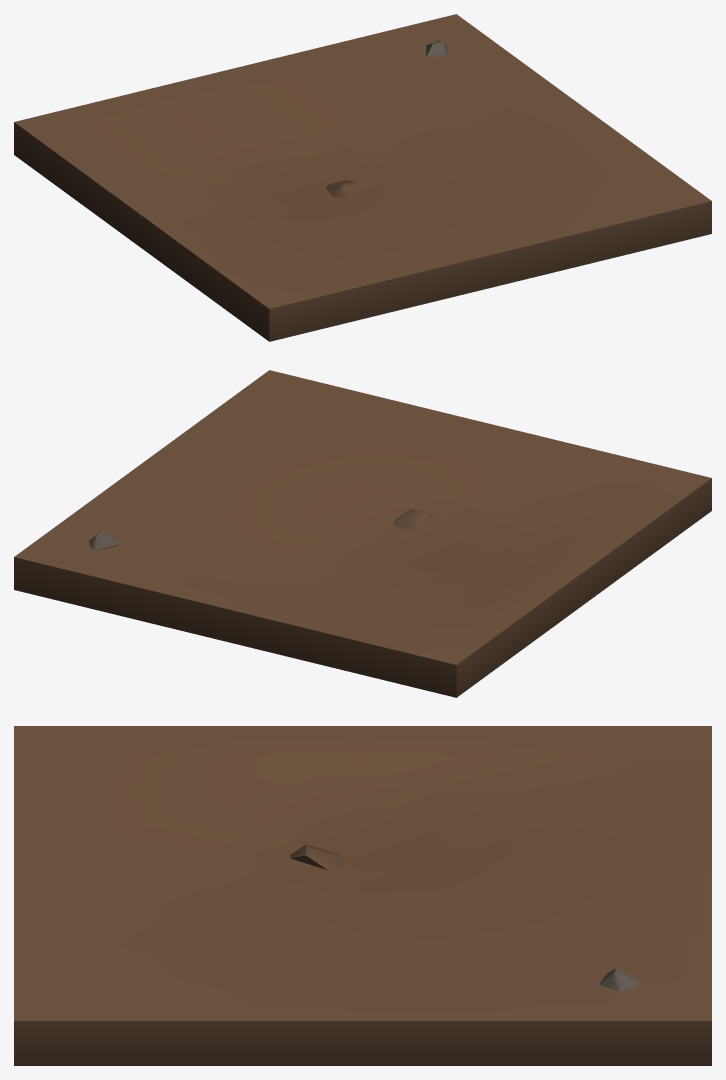
Rendered from floor_earth_small_F.glb.
3 views of the same model, one above another, from view 1: azimuth 30°, elevation 25°; view 2: azimuth 150°, elevation 25°; view 3: azimuth 270°, elevation 25° (orthographic). The views are drawn at different scales.
Visible parts, largest first — view 1: Item; view 2: Item; view 3: Item.
Part boxes in pixels (box(x1,y1,x2,y2)): Item: box(14, 14, 711, 341); Item: box(14, 370, 711, 697); Item: box(14, 726, 711, 1065).
Bounding box in the file's own units: 2 × 0.186 × 2.
1 material, 1 textured.
